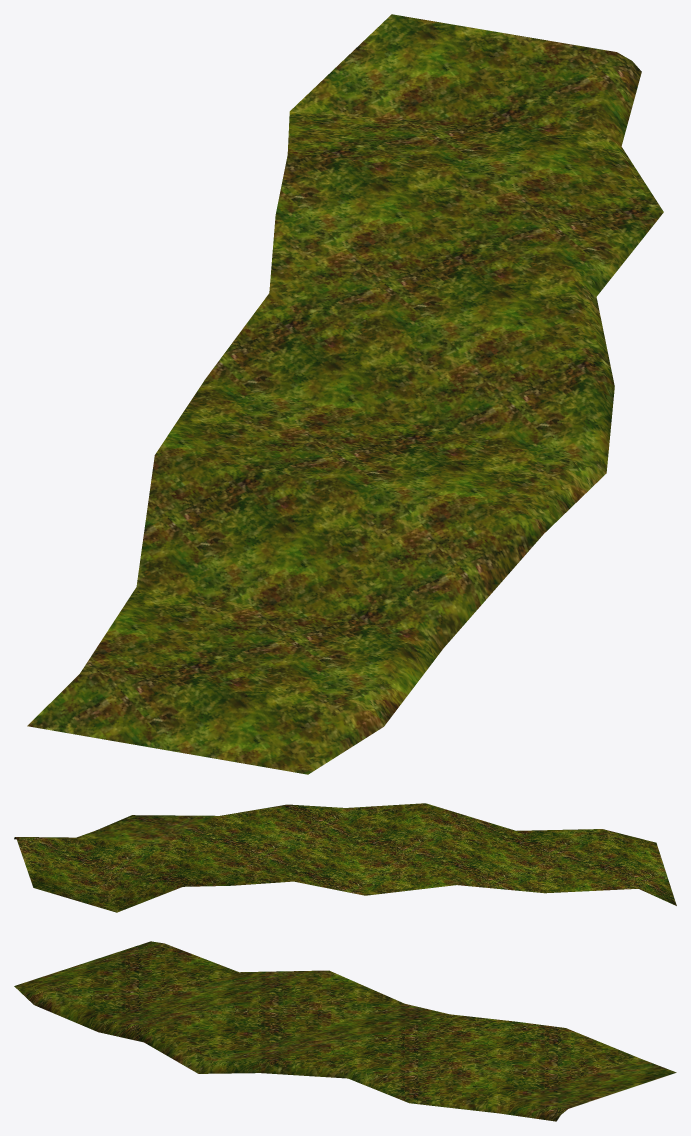
Rendered from TROLLHOLE02_RM_PSURF249.fbx.
3 views of the same model, one above another, from view 1: azimuth 30°, elevation 25°; view 2: azimuth 150°, elevation 25°; view 3: azimuth 270°, elevation 25° (orthographic). The views are drawn at different scales.
Parts seen in each view (by area): view 1: TROLLHOLE02_RM_PSURF249; view 2: TROLLHOLE02_RM_PSURF249; view 3: TROLLHOLE02_RM_PSURF249.
Boxes of the visible parts, x1=… form: TROLLHOLE02_RM_PSURF249: x1=27, y1=14, x2=663, y2=774; TROLLHOLE02_RM_PSURF249: x1=14, y1=803, x2=676, y2=912; TROLLHOLE02_RM_PSURF249: x1=14, y1=941, x2=676, y2=1121.
Bounding box in the file's own units: 271807 × 46252 × 281988.
2 materials, 2 textured.
